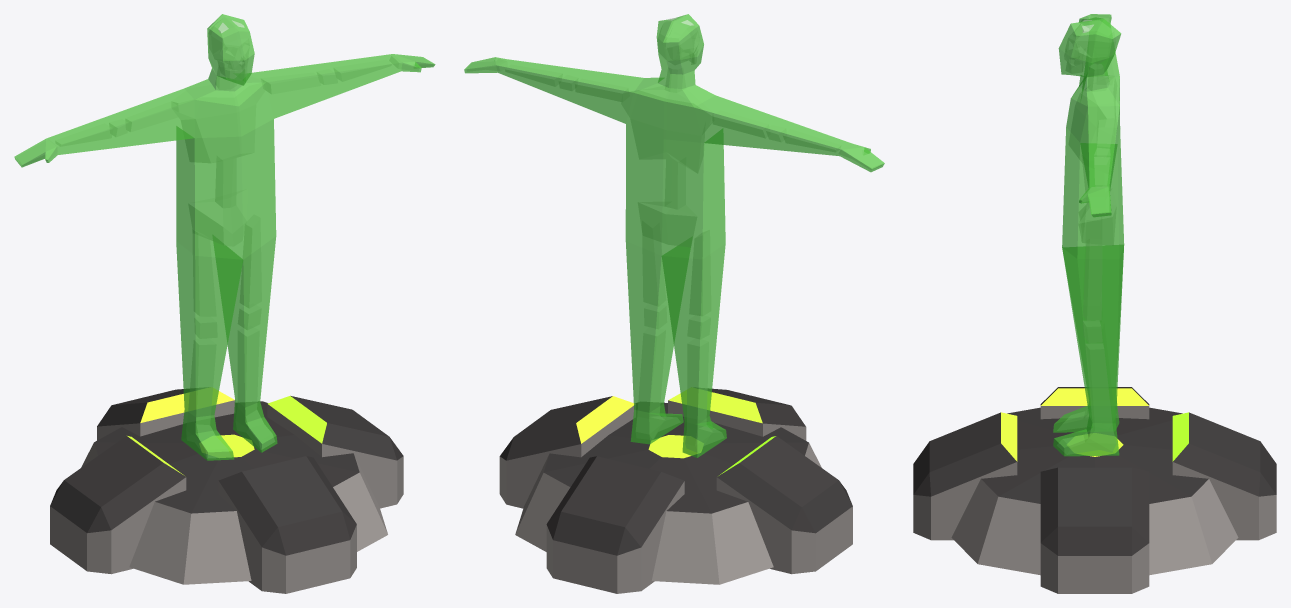
File: scifi-scifi-hologram-man.glb
3 renders of one model, left to right at view 1: azimuth 30°, elevation 25°; view 2: azimuth 150°, elevation 25°; view 3: azimuth 270°, elevation 25°, orthographic.
Visible parts, largest first — view 1: scifi-hologram-man; view 2: scifi-hologram-man; view 3: scifi-hologram-man.
Boxes of the visible parts, x1,y1,x2,y2 form: scifi-hologram-man: (14, 14, 435, 593); scifi-hologram-man: (464, 14, 884, 593); scifi-hologram-man: (913, 14, 1276, 593).
Bounding box in the file's own units: 1.83 × 2.12 × 1.4.
